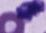D: (16, 0, 46, 23)
